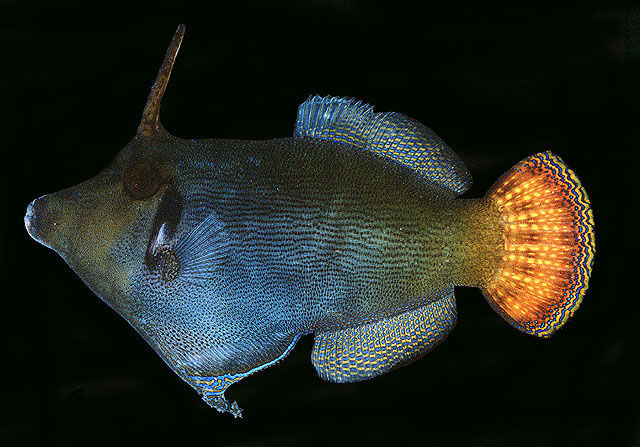fish: (24, 24, 597, 418)
